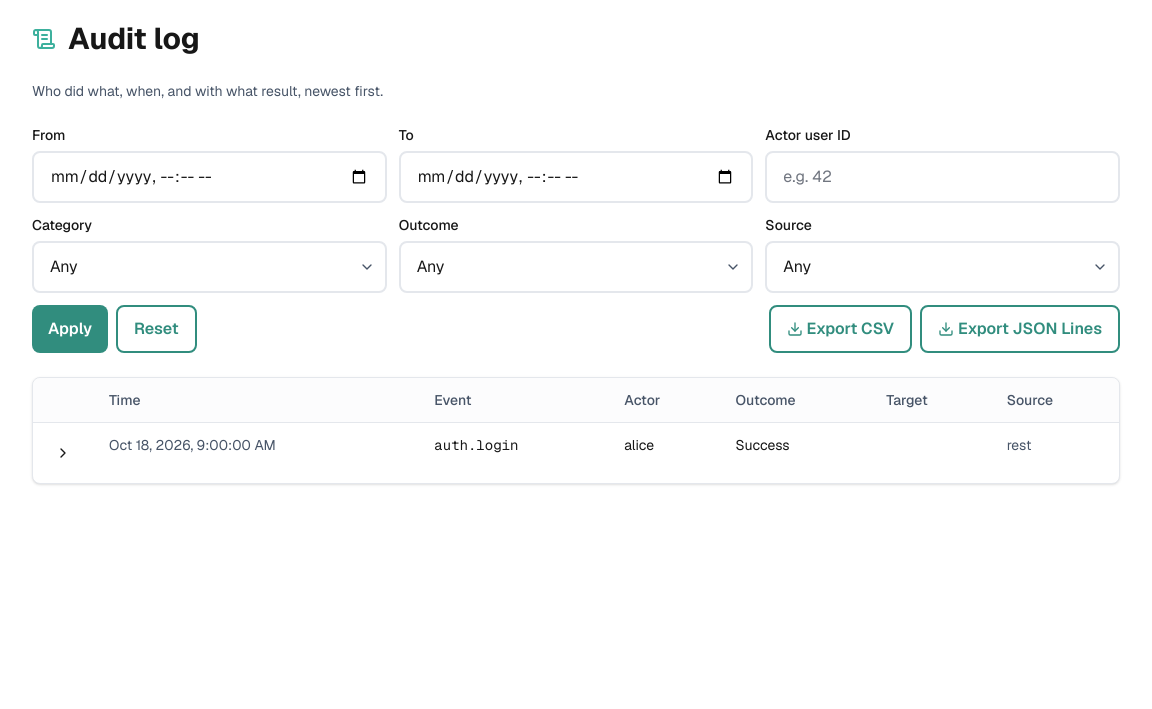
Test: AuditLogPage › fetches a row's full details when it is expanded
This screenshot has width=1152, height=709.
Click the button named "Show details" at {"x": 63, "y": 453}, box top-left (41, 431), bottom-right (85, 475)
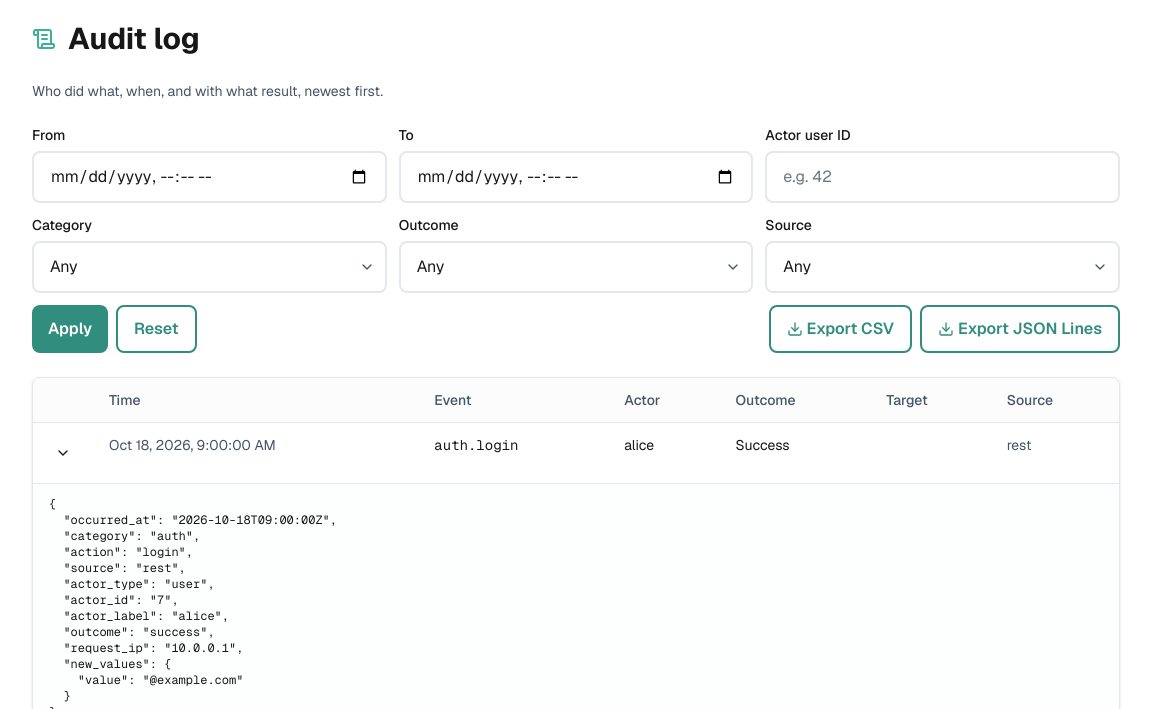
Click the button named "Hide details" at {"x": 63, "y": 453}, box top-left (41, 431), bottom-right (85, 475)
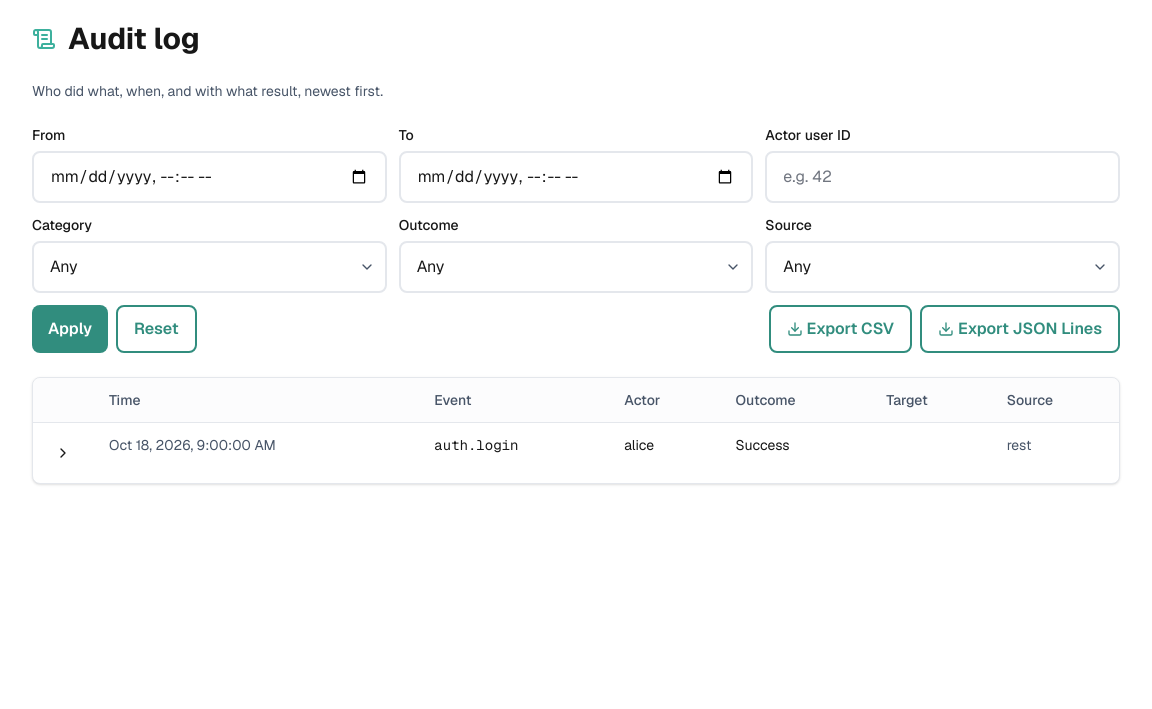
Click the button named "Show details" at {"x": 63, "y": 453}, box top-left (41, 431), bottom-right (85, 475)
(page scrolled)
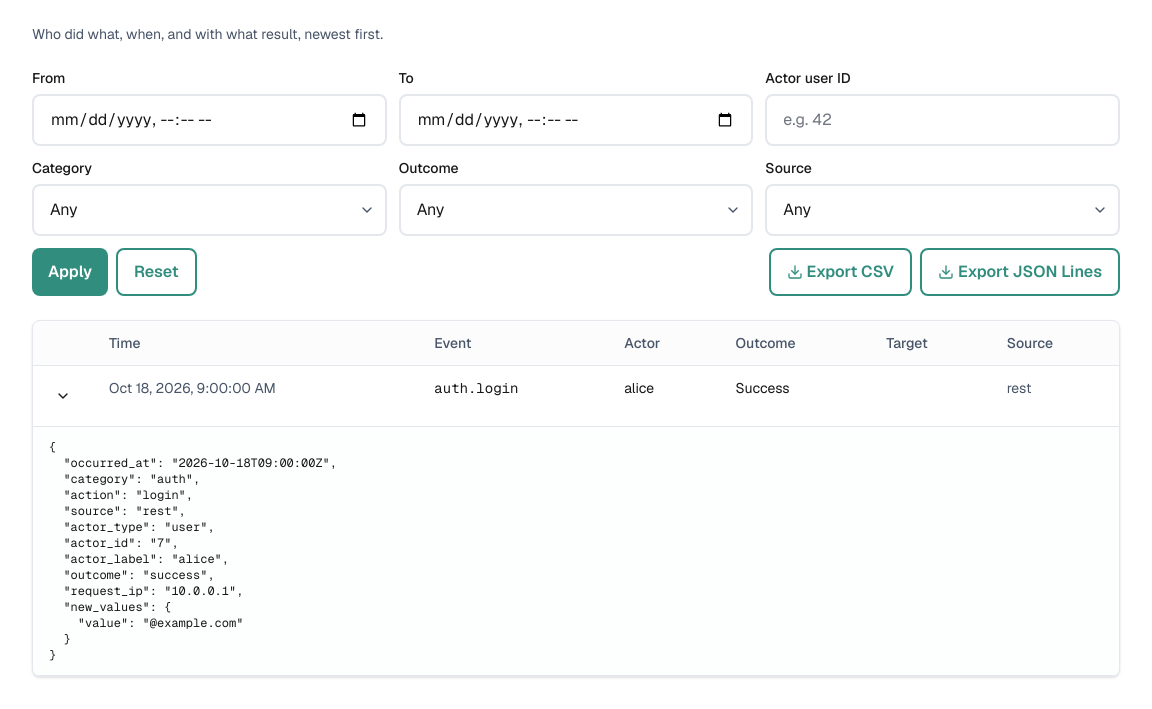
Expected: the text "@example.com" is shown, top-left (49, 439), bottom-right (337, 663)
